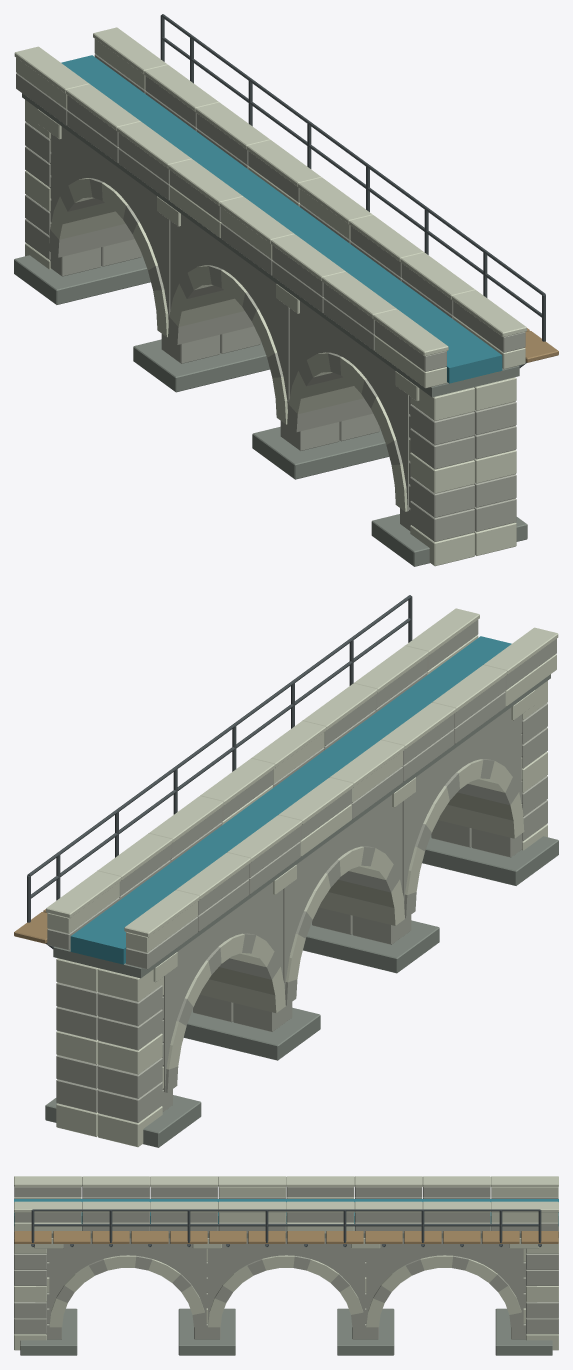
File: aqueduct.glb
3 renders of one model, top to bottom at view 1: azimuth 30°, elevation 25°; view 2: azimuth 150°, elevation 25°; view 3: azimuth 270°, elevation 25°, orthographic. The views are drawn at different scales.
Parts seen in each view (by area): view 1: WaterSurface_mesh, Foundation_mesh, ChannelWall_mesh, InspectionWalkway_mesh, PierCourse_mesh, Spandrel_mesh, ChannelWall.001_mesh, ChannelWall.003_mesh, ChannelWall.005_mesh, ChannelWall.007_mesh, ChannelWall.006_mesh, ChannelWall.002_mesh (+21 smaller); view 2: WaterSurface_mesh, Foundation_mesh, ChannelWall.007_mesh, InspectionWalkway_mesh, PierCourse_mesh, Spandrel.002_mesh, ChannelWall_mesh, ChannelWall.002_mesh, ChannelWall.006_mesh, ChannelWall.004_mesh, ChannelWall.001_mesh, ChannelWall.005_mesh (+21 smaller); view 3: InspectionWalkway_mesh, Foundation_mesh, Spandrel_mesh, Spandrel.002_mesh, Spandrel.001_mesh, ChannelWall_mesh, ChannelWall.003_mesh, ChannelWall.004_mesh, ChannelWall.005_mesh, ChannelWall.006_mesh, ChannelWall.001_mesh, ChannelWall.002_mesh (+20 smaller).
Boxes of the visible parts, x1,y1,x2,y2 form: WaterSurface_mesh: [61, 55, 502, 383]; Foundation_mesh: [14, 254, 527, 566]; ChannelWall_mesh: [373, 290, 526, 388]; InspectionWalkway_mesh: [160, 14, 558, 367]; PierCourse_mesh: [50, 239, 410, 530]; Spandrel_mesh: [289, 301, 410, 510]; ChannelWall.001_mesh: [322, 252, 475, 350]; ChannelWall.003_mesh: [219, 177, 372, 275]; ChannelWall.005_mesh: [117, 102, 270, 200]; ChannelWall.007_mesh: [14, 27, 167, 125]; ChannelWall.006_mesh: [66, 65, 218, 163]; ChannelWall.002_mesh: [271, 215, 424, 313]; WaterSurface_mesh: [70, 636, 511, 964]; Foundation_mesh: [45, 835, 558, 1147]; ChannelWall.007_mesh: [46, 871, 199, 969]; InspectionWalkway_mesh: [14, 595, 412, 948]; PierCourse_mesh: [162, 820, 522, 1111]; Spandrel.002_mesh: [162, 882, 283, 1091]; ChannelWall_mesh: [405, 608, 558, 706]; ChannelWall.002_mesh: [302, 683, 455, 781]; ChannelWall.006_mesh: [97, 833, 250, 931]; ChannelWall.004_mesh: [200, 758, 353, 856]; ChannelWall.001_mesh: [354, 646, 506, 744]; ChannelWall.005_mesh: [148, 796, 301, 894]; InspectionWalkway_mesh: [14, 1209, 558, 1246]; Foundation_mesh: [20, 1308, 552, 1355]; Spandrel_mesh: [49, 1238, 206, 1326]; Spandrel.002_mesh: [366, 1238, 523, 1326]; Spandrel.001_mesh: [208, 1238, 364, 1324]; ChannelWall_mesh: [14, 1176, 81, 1233]; ChannelWall.003_mesh: [218, 1176, 286, 1233]; ChannelWall.004_mesh: [286, 1176, 354, 1233]; ChannelWall.005_mesh: [354, 1176, 422, 1233]; ChannelWall.006_mesh: [422, 1176, 490, 1233]; ChannelWall.001_mesh: [82, 1176, 150, 1233]; ChannelWall.002_mesh: [150, 1176, 218, 1233].
Size of the model in its own units: 1.71 by 2.7 by 8.6.
